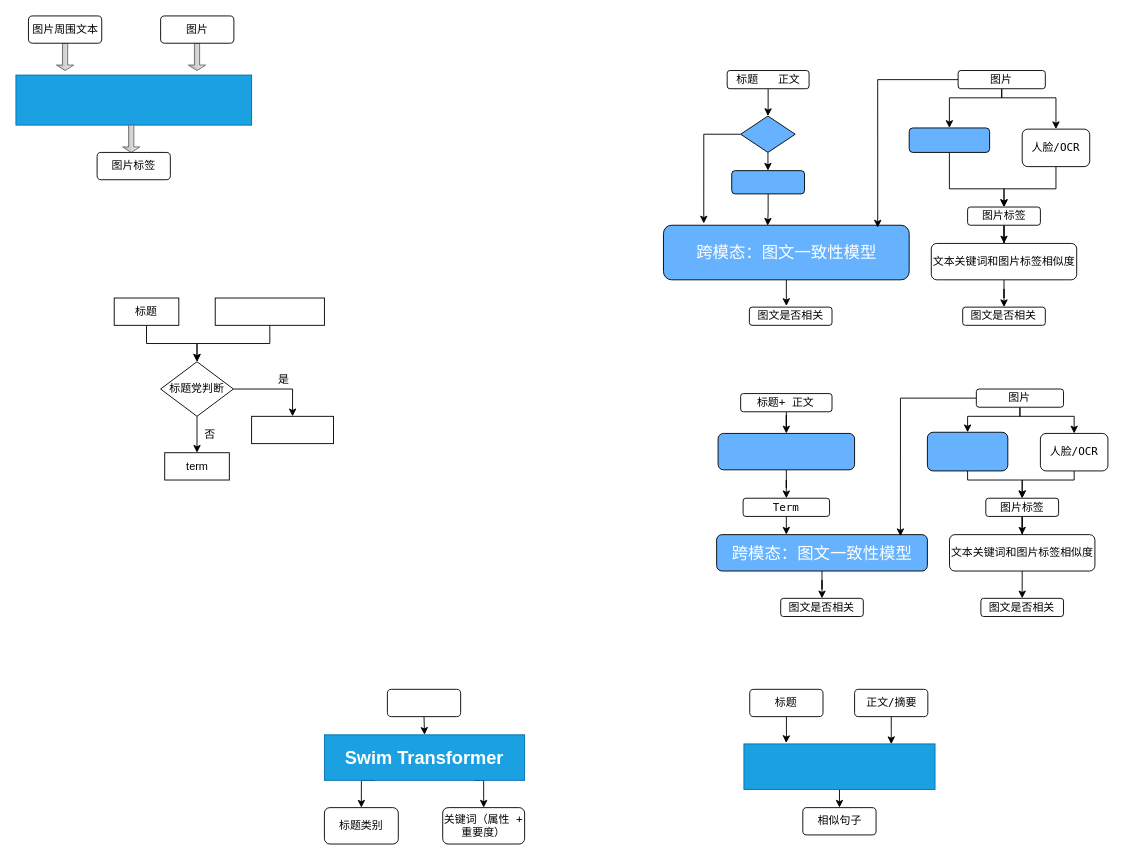
Some shapes in this 1124 by 860 pixel diagram are drawn without their labels. Each missing label, with the box of its shape:
Embedding相似度: (743, 743, 935, 789)
News attention: (251, 415, 334, 444)
Text：标题: (386, 688, 461, 717)
协同语义: (926, 431, 1008, 471)
协同语义 2.0: (908, 127, 990, 152)
协同语义 相关性模型: (15, 74, 252, 125)
文本分类和关键词提取: (717, 433, 855, 470)
标题/正文融合: (731, 170, 805, 194)
标题分类: (740, 115, 795, 152)
正文的关键词（News attention）: (214, 297, 324, 325)
